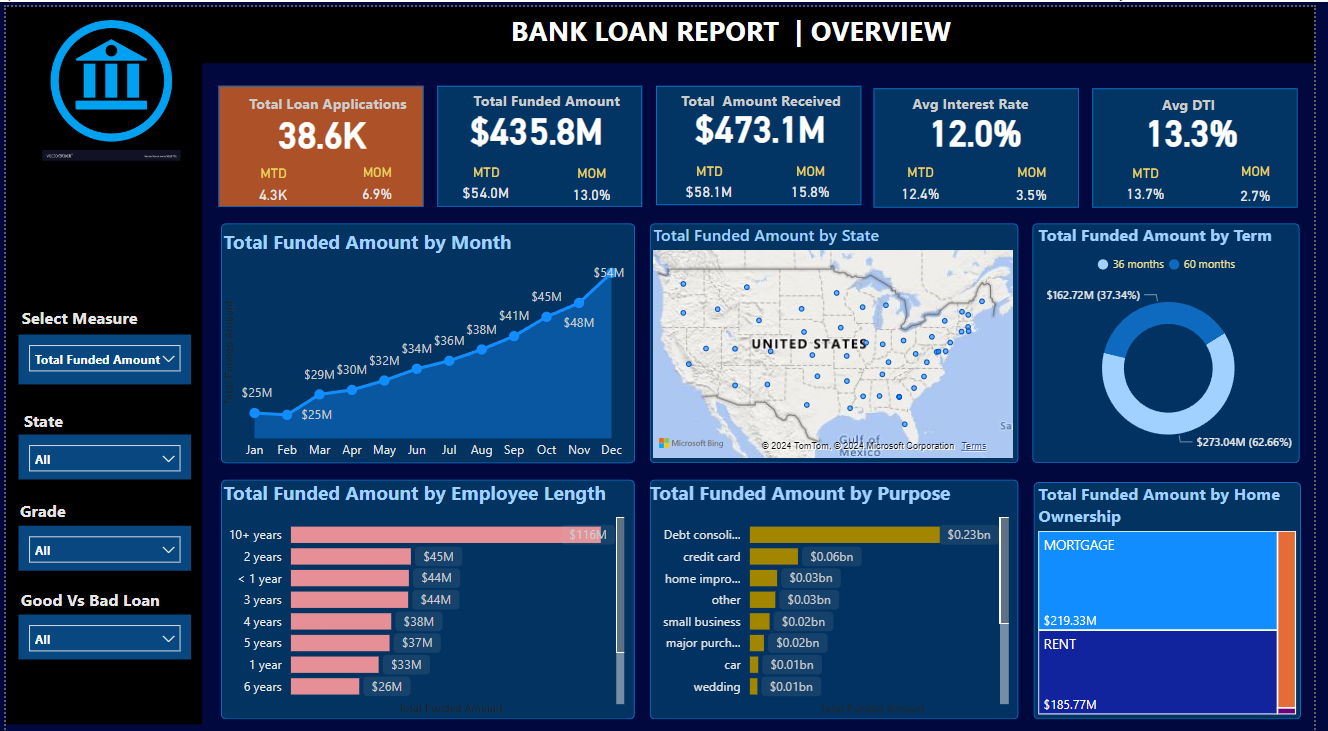

This screenshot's page, from the dashboard's own definition file:
{"tool":"powerbi","page":{"name":"Overview","canvas":[1280,720],"ordinal":1},"visuals":[{"type":"shape","box":[0,36.7,191.9,665],"z":0},{"type":"shape","box":[207.8,77,200.5,118.6],"z":0,"group":"g1"},{"type":"shape","box":[422.1,77,200.5,118.6],"z":0,"group":"g2"},{"type":"shape","box":[635.1,77.4,201,116.9],"z":0,"group":"g3"},{"type":"shape","box":[848.7,79.5,201,116.9],"z":0,"group":"g4"},{"type":"shape","box":[1062.3,79.5,201,116.9],"z":0,"group":"g5"},{"type":"card","fields":{"Values":["financial_loan.Total Amount Received"]},"box":[663.5,89.2,147.9,56.2],"z":1000,"group":"g3"},{"type":"card","fields":{"Values":["financial_loan.Total Funded Amount"]},"box":[445.4,90.4,147.9,57.5],"z":1000,"group":"g2"},{"type":"card","fields":{"Values":["financial_loan.Average Interest Rate"]},"box":[874.2,91.2,147.9,57.5],"z":1000,"group":"g4"},{"type":"card","fields":{"Values":["financial_loan.Avg DTI"]},"box":[1084.9,92.9,147.9,56.2],"z":1000,"group":"g5"},{"type":"card","fields":{"Values":["financial_loan.Total Loan Application"]},"box":[253.3,95.3,112.5,55],"z":1000,"group":"g1"},{"type":"shape","box":[210,211.5,405,235],"z":1000},{"type":"shape","box":[0,0,1280.3,55],"z":2000},{"type":"textbox","box":[445,77,167.5,38.9],"z":2000,"group":"g2"},{"type":"textbox","box":[646.4,77,183.4,31.8],"z":2000,"group":"g3"},{"type":"textbox","box":[220,78.9,189.5,33],"z":2000,"group":"g1"},{"type":"textbox","box":[860.8,78.9,165,30.6],"z":2000,"group":"g4"},{"type":"textbox","box":[1072.7,80.7,166.2,28.1],"z":2000,"group":"g5"},{"type":"card","title":"MTD","fields":{"Values":["financial_loan.MTD Total Amount Received"]},"box":[655.6,152.8,62.3,41.6],"z":3000,"group":"g3"},{"type":"card","title":"MTD","fields":{"Values":["financial_loan.MTD Avg Int Rate"]},"box":[860.8,153.6,67.2,39.1],"z":3000,"group":"g4"},{"type":"card","title":"MTD","fields":{"Values":["financial_loan.MTD Funded Amount"]},"box":[436.9,154,66,40.3],"z":3000,"group":"g2"},{"type":"card","title":"MTD","fields":{"Values":["financial_loan.MTD Avg DTI"]},"box":[1081.5,154.7,64.8,41.6],"z":3000,"group":"g5"},{"type":"card","title":"MTD","fields":{"Values":["financial_loan.MTD Loan Applications"]},"box":[237.4,155.2,48.9,39.1],"z":3000,"group":"g1"},{"type":"textbox","box":[0,476.7,72.1,46.5],"z":3000},{"type":"card","title":"MOM","fields":{"Values":["financial_loan.MOM Avg DTI"]},"box":[1195.2,152.3,52.6,52.6],"z":4000,"group":"g5"},{"type":"card","title":"MOM","fields":{"Values":["financial_loan.MOM Total Amount Received"]},"box":[757.1,152.8,57.5,41.6],"z":4000,"group":"g3"},{"type":"card","title":"MOM","fields":{"Values":["financial_loan.MOM Avg Int Rate"]},"box":[976.9,153.6,52.6,36.7],"z":4000,"group":"g4"},{"type":"card","title":"MOM","fields":{"Values":["financial_loan.MOM Loan Applications"]},"box":[337.6,154,51.3,39.1],"z":4000,"group":"g1"},{"type":"card","title":"MOM","fields":{"Values":["financial_loan.MOM Funded Amount"]},"box":[545.7,155.2,55,39.1],"z":4000,"group":"g2"},{"type":"textbox","box":[0,563.5,165,55],"z":4000},{"type":"textbox","box":[12.2,388.7,48.9,75.8],"z":5000},{"type":"textbox","box":[489.3,0,565.3,55.2],"z":6000},{"type":"group","id":"g1","title":"Group 1","box":[207.8,77,201.7,118.6],"z":7000},{"type":"group","id":"g2","title":"Group 1","box":[422.1,77,200.5,118.6],"z":8000},{"type":"group","id":"g3","title":"Group 1","box":[635.1,77,201,117.3],"z":9000},{"type":"group","id":"g4","title":"Group 1","box":[848.7,78.9,201,117.4],"z":10000},{"type":"group","id":"g5","title":"Group 1","box":[1062.3,79.5,201,125.4],"z":11000},{"type":"slicer","fields":{"Values":["financial_loan.address_state"]},"box":[12.2,418.1,168.7,44],"z":12000},{"type":"slicer","fields":{"Values":["financial_loan.grade"]},"box":[12.2,507.3,168.7,44],"z":13000},{"type":"slicer","fields":{"Values":["financial_loan.Good Vs Bad Loan"]},"box":[12.2,594.1,168.7,44],"z":14000},{"type":"areaChart","fields":{"Y":["financial_loan.Total Funded Amount"],"Category":["Date Table.Month"]},"box":[207.8,216.4,402.2,234.7],"z":15000},{"type":"slicer","fields":{"Values":["Select Measures.Select Measures"]},"box":[12.2,320.3,168.7,48.9],"z":16000},{"type":"textbox","box":[0,287.3,144.2,57.5],"z":17000},{"type":"shape","box":[629.5,211.5,360.6,234.7],"z":18000},{"type":"map","fields":{"Category":["financial_loan.address_state"],"Y":["financial_loan.Total Funded Amount"]},"box":[628.3,211.5,360.6,234.7],"z":19000},{"type":"shape","box":[1003.6,211.5,261.6,234.7],"z":20000},{"type":"donutChart","fields":{"Y":["financial_loan.Total Funded Amount"],"Category":["financial_loan.term"]},"box":[1004.8,211.5,264,234.7],"z":21000},{"type":"shape","box":[210.3,462.1,404.6,234.7],"z":22000},{"type":"barChart","fields":{"Y":["financial_loan.Total Funded Amount"],"Category":["financial_loan.emp_length"]},"box":[207.8,462.1,402.2,234.7],"z":23000},{"type":"shape","box":[629.5,462.1,360.6,234.7],"z":24000},{"type":"barChart","fields":{"Y":["financial_loan.Total Funded Amount"],"Category":["financial_loan.purpose"]},"box":[624.7,462.1,360.6,234.7],"z":25000},{"type":"shape","box":[1004.8,464.5,261.6,232.3],"z":26000},{"type":"treemap","fields":{"Values":["financial_loan.Total Funded Amount"],"Group":["financial_loan.home_ownership"]},"box":[1004.8,464.5,261.6,232.3],"z":27000},{"type":"image","box":[12.2,0,180.9,155.2],"z":27001}]}

Visuals, with their boxes in screenshot pixels (x1, y1, x2, y2), scaled from the page's 1280x720 canvas onto the 1328x731 screenshot:
shape: 0 37 199 712
shape: 216 78 424 199
shape: 438 78 646 199
shape: 659 79 867 197
shape: 881 81 1089 199
shape: 1102 81 1311 199
card - financial_loan.Total Amount Received: 688 91 842 148
card - financial_loan.Total Funded Amount: 462 92 616 150
card - financial_loan.Average Interest Rate: 907 93 1060 151
card - financial_loan.Avg DTI: 1126 94 1279 151
card - financial_loan.Total Loan Application: 263 97 380 153
shape: 218 215 638 453
shape: 0 0 1327 56
textbox: 462 78 635 118
textbox: 671 78 861 110
textbox: 228 80 425 114
textbox: 893 80 1064 111
textbox: 1113 82 1285 110
"MTD" card: 680 155 745 197
"MTD" card: 893 156 963 196
"MTD" card: 453 156 522 197
"MTD" card: 1122 157 1189 199
"MTD" card: 246 158 297 197
textbox: 0 484 75 531
"MOM" card: 1240 155 1295 208
"MOM" card: 785 155 845 197
"MOM" card: 1014 156 1068 193
"MOM" card: 350 156 403 196
"MOM" card: 566 158 623 197
textbox: 0 572 171 628
textbox: 13 395 63 472
textbox: 508 0 1094 56
"Group 1" group: 216 78 425 199
"Group 1" group: 438 78 646 199
"Group 1" group: 659 78 867 197
"Group 1" group: 881 80 1089 199
"Group 1" group: 1102 81 1311 208
slicer - financial_loan.address_state: 13 424 188 469
slicer - financial_loan.grade: 13 515 188 560
slicer - financial_loan.Good Vs Bad Loan: 13 603 188 648
areaChart - financial_loan.Total Funded Amount x Date Table.Month: 216 220 633 458
slicer - Select Measures.Select Measures: 13 325 188 375
textbox: 0 292 150 350
shape: 653 215 1027 453
map - financial_loan.address_state x financial_loan.Total Funded Amount: 652 215 1026 453
shape: 1041 215 1313 453
donutChart - financial_loan.Total Funded Amount x financial_loan.term: 1042 215 1316 453
shape: 218 469 638 707
barChart - financial_loan.Total Funded Amount x financial_loan.emp_length: 216 469 633 707
shape: 653 469 1027 707
barChart - financial_loan.Total Funded Amount x financial_loan.purpose: 648 469 1022 707
shape: 1042 472 1314 707
treemap - financial_loan.Total Funded Amount x financial_loan.home_ownership: 1042 472 1314 707
image: 13 0 200 158
